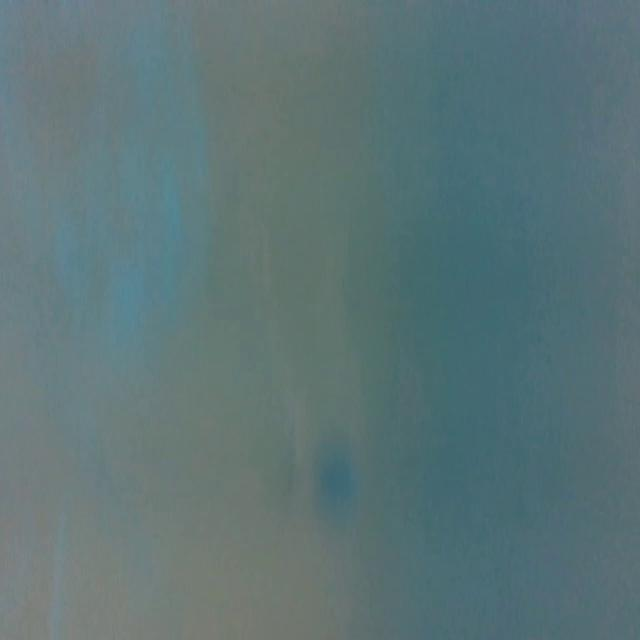plastic bottle: (306, 268, 378, 527)
